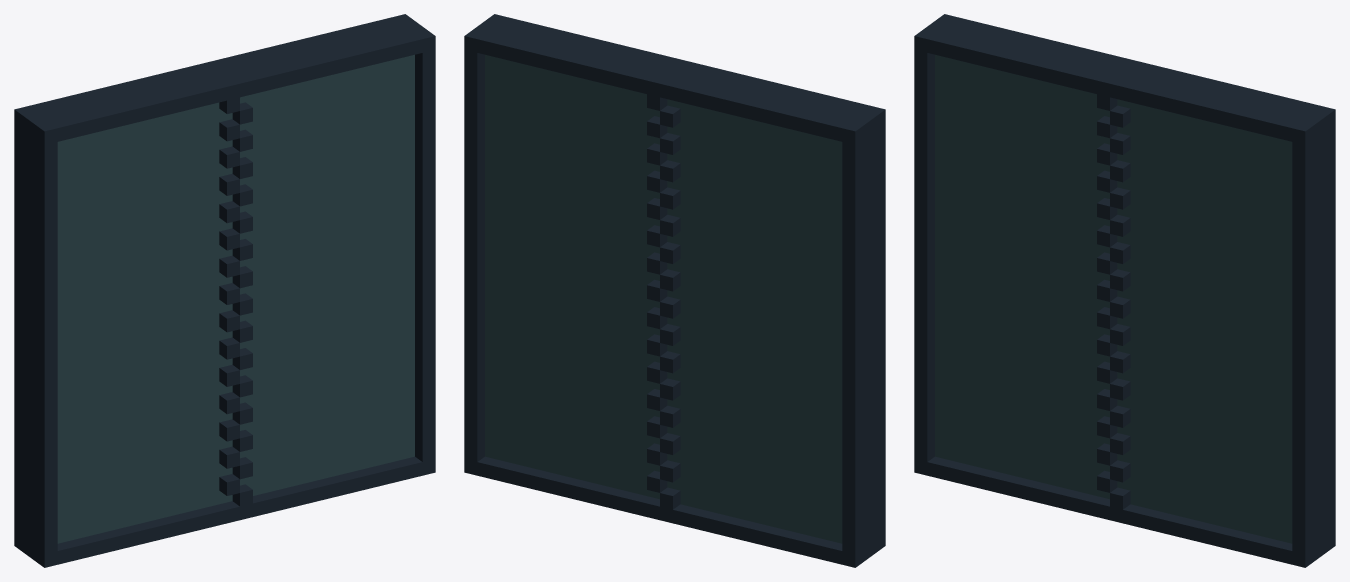
The model's file is wall2_gate_closed.obj.
3 renders of one model, left to right at view 1: azimuth 30°, elevation 25°; view 2: azimuth 150°, elevation 25°; view 3: azimuth 330°, elevation 25°, orthographic.
Bounding box in the file's own units: 3 × 3.2 × 0.4.
Materials: 1 (1 with a texture image).
